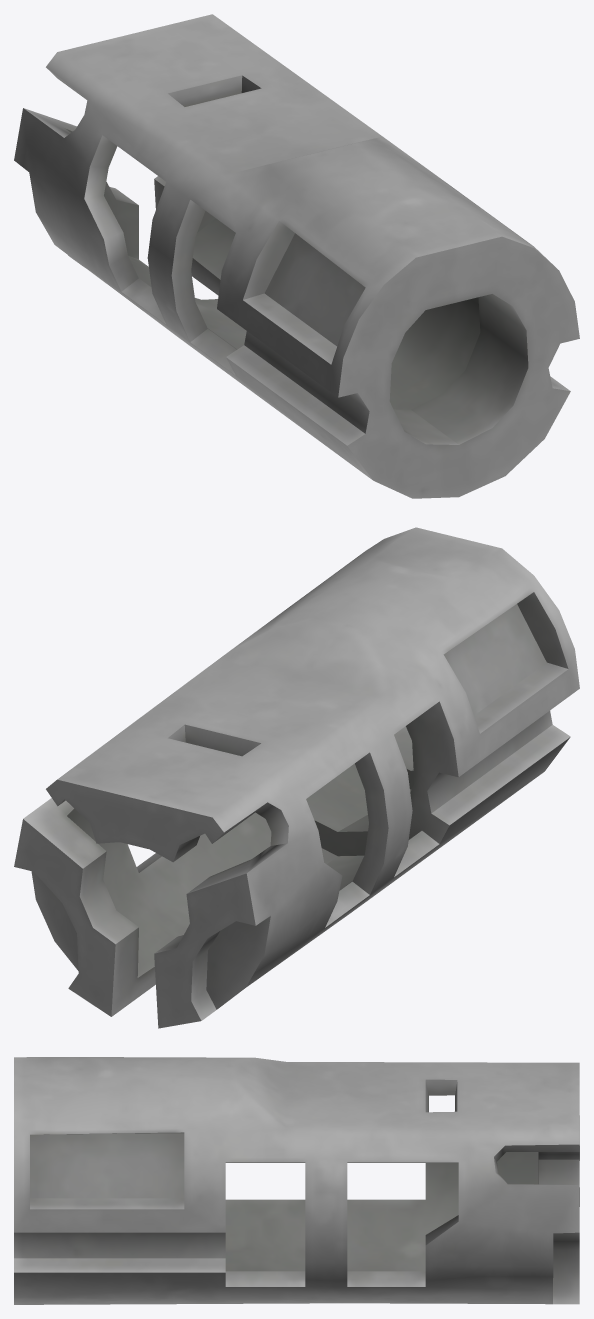
File: IG_Acc_Muzzle_AR_REC_2.fbx
3 renders of one model, top to bottom at view 1: azimuth 30°, elevation 25°; view 2: azimuth 150°, elevation 25°; view 3: azimuth 270°, elevation 25°, orthographic. The views are drawn at different scales.
Parts seen in each view (by area): view 1: Muzzle_AR_REC_2; view 2: Muzzle_AR_REC_2; view 3: Muzzle_AR_REC_2.
Part boxes in pixels (box(x1,y1,x2,y2)): Muzzle_AR_REC_2: box(14, 14, 579, 498); Muzzle_AR_REC_2: box(14, 527, 579, 1028); Muzzle_AR_REC_2: box(14, 1057, 579, 1304).
Size of the model in its own units: 0.0709 by 0.0716 by 0.1647.
